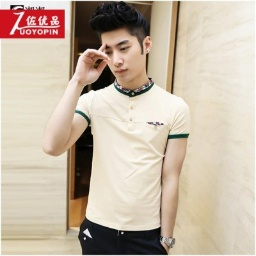face: (91, 2, 154, 83)
